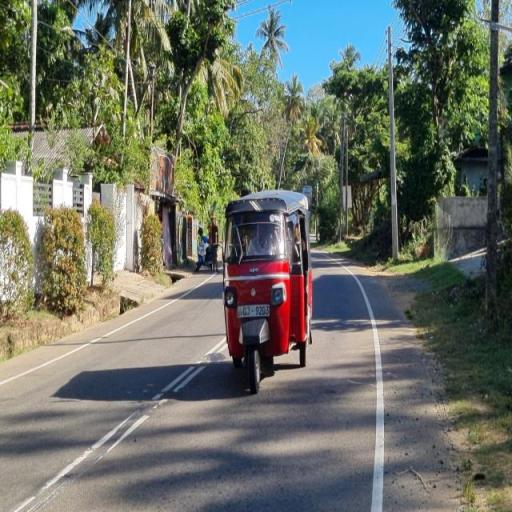double_white_line: (10, 412, 144, 510), (150, 338, 226, 408)
